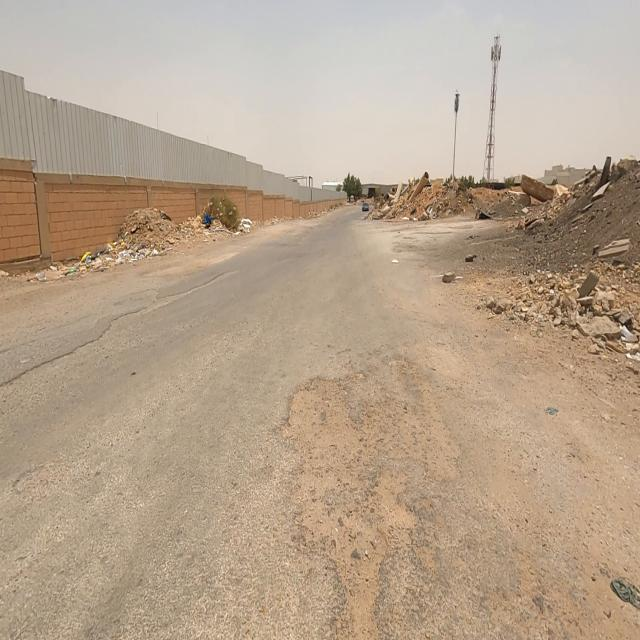Building: (283, 355, 460, 640), (253, 476, 430, 640), (350, 430, 482, 555), (250, 358, 386, 456), (352, 340, 469, 446)
